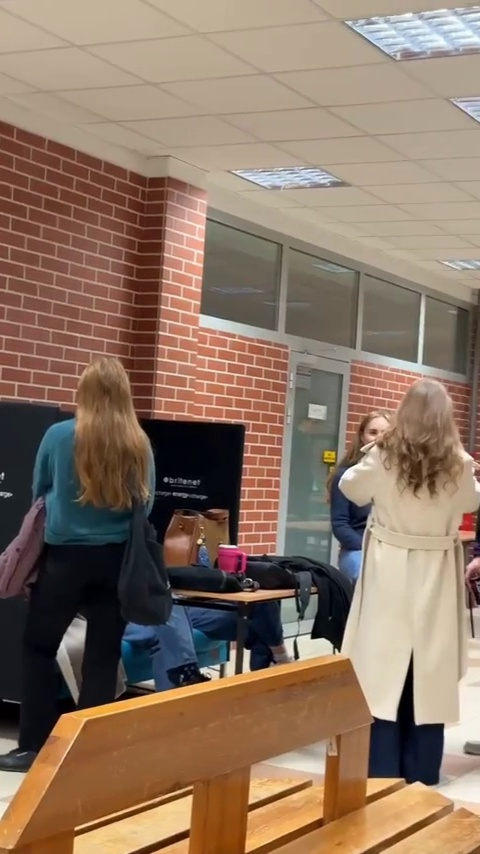no vest: (24, 355, 148, 712), (334, 380, 461, 724)
